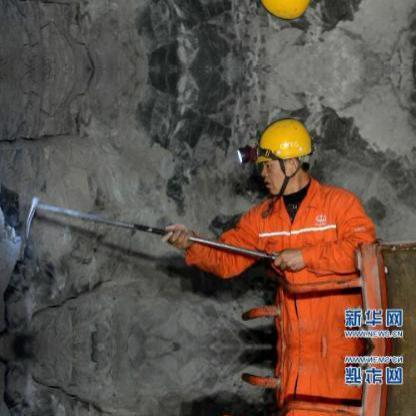capacete: (253, 115, 314, 164)
